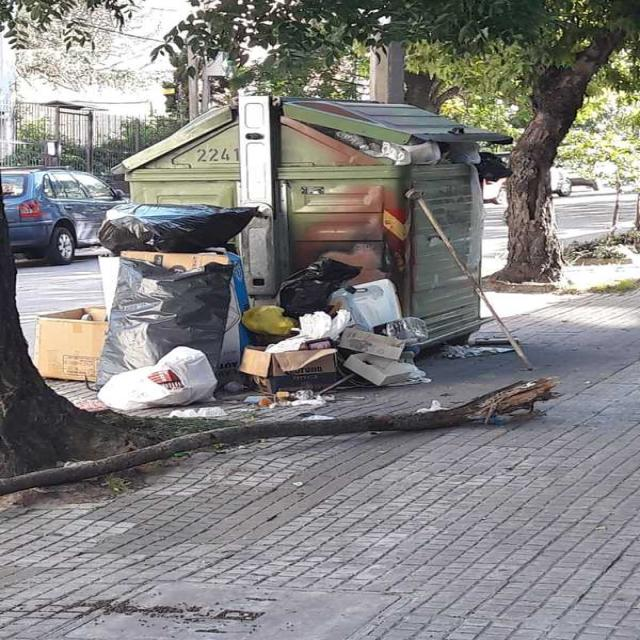garbage: (30, 197, 442, 419), (402, 190, 541, 374), (344, 127, 518, 183)
